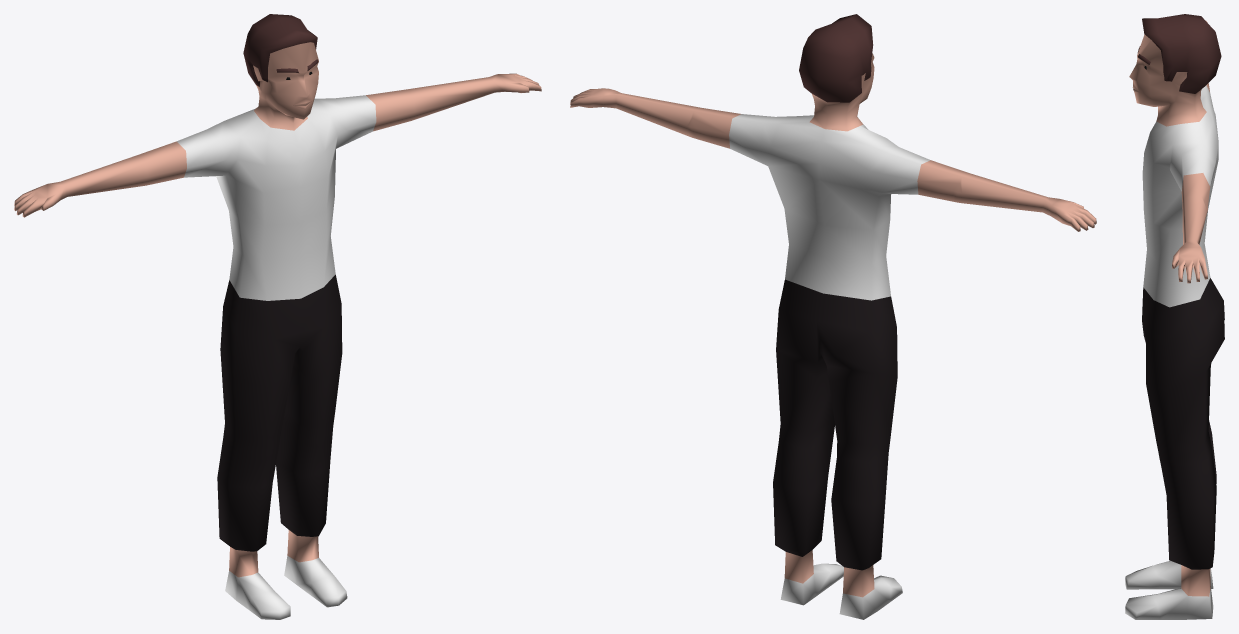
The model's file is character.fbx.
3 views of the same model, side by side, from view 1: azimuth 30°, elevation 25°; view 2: azimuth 150°, elevation 25°; view 3: azimuth 270°, elevation 25° (orthographic).
Visible parts, largest first — view 1: Character; view 2: Character; view 3: Character.
Boxes of the visible parts, x1,y1,x2,y2 form: Character: (14, 14, 541, 619); Character: (570, 14, 1096, 619); Character: (1125, 14, 1224, 619).
Bounding box in the file's own units: 8.77 × 9.23 × 1.43.
